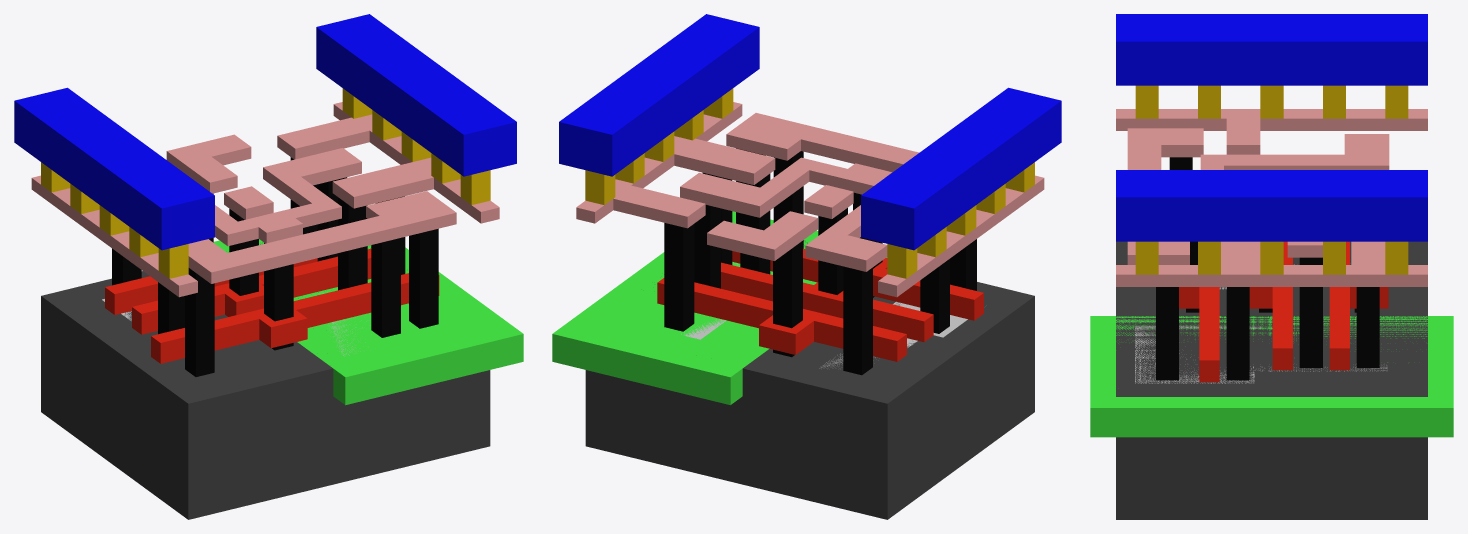
File: sky130_fd_sc_hd__lpflow_inputiso0n_1.obj
3 renders of one model, left to right at view 1: azimuth 30°, elevation 25°; view 2: azimuth 150°, elevation 25°; view 3: azimuth 270°, elevation 25°, orthographic. The views are drawn at different scales.
Visible parts, largest first — view 1: subs, metal1, li, licon, nwell, poly, mcon; view 2: subs, metal1, li, licon, nwell, poly, mcon; view 3: subs, metal1, li, nwell, licon, mcon, poly, tap.
Part boxes in pixels (box(x1,y1,x2,y2)): subs: box(41, 242, 490, 519); metal1: box(14, 14, 516, 250); li: box(31, 102, 499, 297); licon: box(112, 157, 438, 376); nwell: box(213, 239, 523, 405); poly: box(105, 248, 439, 363); mcon: box(41, 88, 490, 278); subs: box(585, 240, 1034, 519); metal1: box(559, 14, 1061, 250); li: box(576, 102, 1044, 297); licon: box(664, 148, 976, 375); nwell: box(552, 211, 887, 405); poly: box(657, 249, 983, 361); mcon: box(585, 88, 1034, 278); subs: box(1116, 241, 1427, 519); metal1: box(1116, 14, 1427, 241); li: box(1116, 109, 1427, 286); nwell: box(1090, 316, 1453, 437); licon: box(1156, 157, 1379, 380); mcon: box(1135, 85, 1408, 274); poly: box(1179, 241, 1388, 382); tap: box(1135, 326, 1387, 383).
Size of the model in its own units: 3.2 by 2.74 by 2.68.
